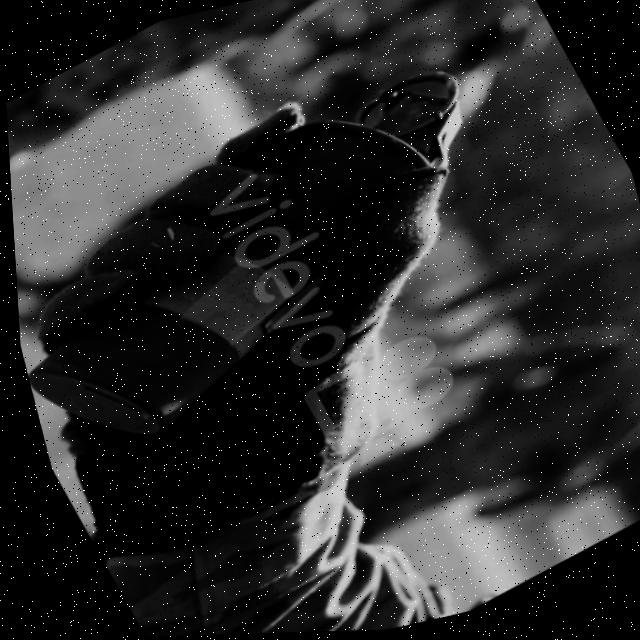grenade: (2, 33, 580, 481)
